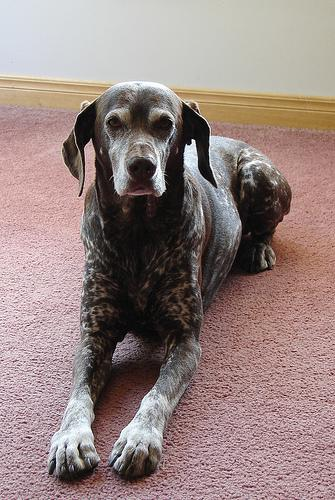dog-german_shorthaired: (60, 80, 216, 196)
